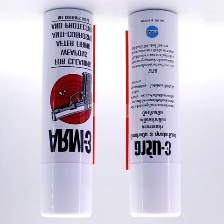aerosol_cans: (38, 4, 98, 219), (124, 4, 183, 220)
